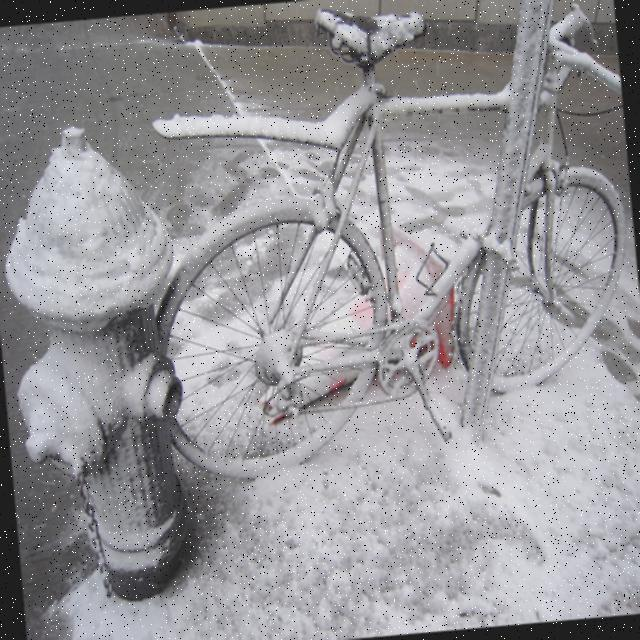fire_hydrant: (0, 118, 204, 610)
